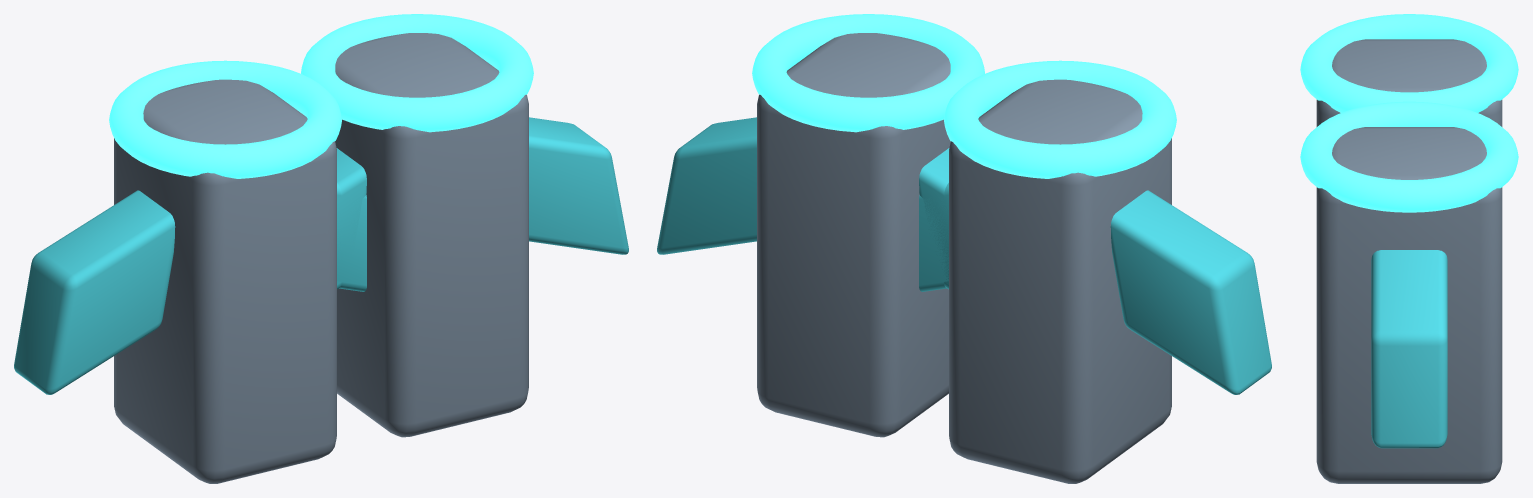
Rendered from boots_v6.glb.
3 views of the same model, side by side, from view 1: azimuth 30°, elevation 25°; view 2: azimuth 150°, elevation 25°; view 3: azimuth 270°, elevation 25° (orthographic). The views are drawn at different scales.
Parts seen in each view (by area): view 1: WINDSTEP_BOOT_PRIMARY, WINDSTEP_BOOT_PRIMARY.001, WINDSTEP_WING_ACCENT, WINDSTEP_ANKLET_EMISSIVE, WINDSTEP_ANKLET_EMISSIVE.001, WINDSTEP_WING_ACCENT.003, WINDSTEP_WING_ACCENT.001, WINDSTEP_WING_ACCENT.002; view 2: WINDSTEP_BOOT_PRIMARY, WINDSTEP_BOOT_PRIMARY.001, WINDSTEP_WING_ACCENT, WINDSTEP_ANKLET_EMISSIVE, WINDSTEP_ANKLET_EMISSIVE.001, WINDSTEP_WING_ACCENT.003, WINDSTEP_WING_ACCENT.001, WINDSTEP_WING_ACCENT.002; view 3: WINDSTEP_BOOT_PRIMARY.001, WINDSTEP_WING_ACCENT.003, WINDSTEP_ANKLET_EMISSIVE.001, WINDSTEP_ANKLET_EMISSIVE, WINDSTEP_BOOT_PRIMARY.
Part boxes in pixels (x1,y1,x2,y2): WINDSTEP_BOOT_PRIMARY: (114, 79, 336, 483); WINDSTEP_BOOT_PRIMARY.001: (335, 33, 528, 437); WINDSTEP_WING_ACCENT: (14, 190, 175, 394); WINDSTEP_ANKLET_EMISSIVE: (109, 60, 341, 178); WINDSTEP_ANKLET_EMISSIVE.001: (301, 14, 533, 132); WINDSTEP_WING_ACCENT.003: (529, 117, 628, 254); WINDSTEP_WING_ACCENT.001: (337, 183, 366, 291); WINDSTEP_WING_ACCENT.002: (336, 148, 366, 289); WINDSTEP_BOOT_PRIMARY: (949, 79, 1171, 483); WINDSTEP_BOOT_PRIMARY.001: (757, 33, 950, 437); WINDSTEP_WING_ACCENT: (1110, 190, 1271, 394); WINDSTEP_ANKLET_EMISSIVE: (944, 60, 1176, 178); WINDSTEP_ANKLET_EMISSIVE.001: (752, 14, 984, 132); WINDSTEP_WING_ACCENT.003: (657, 117, 756, 254); WINDSTEP_WING_ACCENT.001: (919, 183, 948, 291); WINDSTEP_WING_ACCENT.002: (919, 148, 949, 289); WINDSTEP_BOOT_PRIMARY.001: (1316, 127, 1502, 483); WINDSTEP_WING_ACCENT.003: (1371, 250, 1447, 448); WINDSTEP_ANKLET_EMISSIVE.001: (1300, 101, 1518, 212); WINDSTEP_ANKLET_EMISSIVE: (1300, 14, 1518, 112); WINDSTEP_BOOT_PRIMARY: (1316, 39, 1502, 126).
Bounding box in the file's own units: 2.31 × 1.28 × 0.8.
